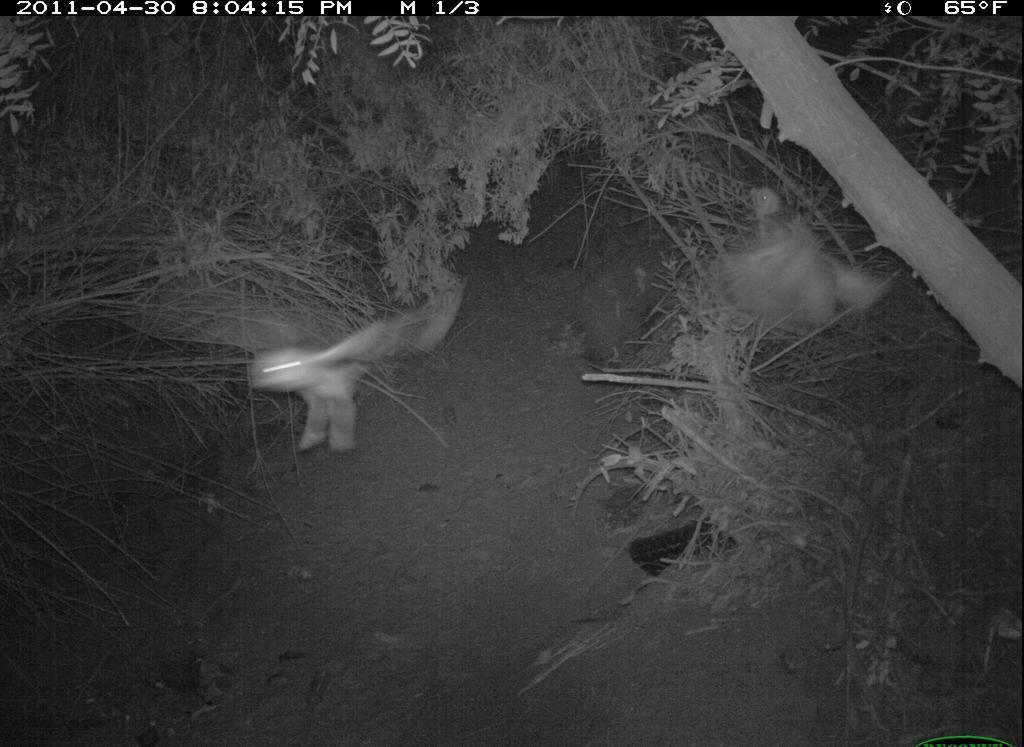bird: (725, 182, 891, 333)
